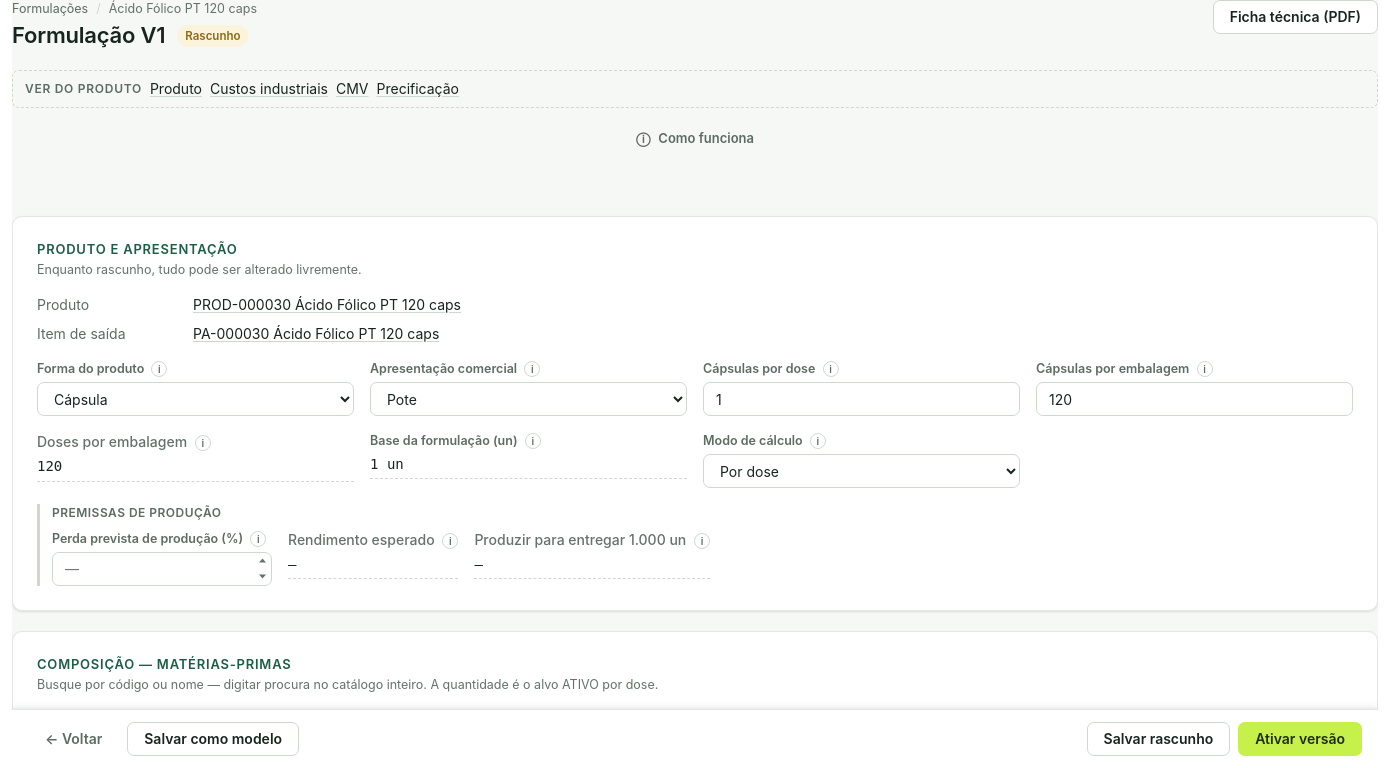
Test case: Bancada — cápsula responde ao vivo › 2 cápsulas por dose refazem doses por embalagem e a massa da cápsula, sem salvar
The image size is (1390, 768).
Expected: the link "PROD-000030 Ácido Fólico PT 120 caps" is shown, [193, 296, 461, 313]
Expected: the text with test id "doses-derivadas" reads "120", [37, 458, 62, 474]
Replace the text in the field labelled "Cápsulas por dose i" with "2". click: (862, 399)
box: [703, 382, 1020, 416]
(page scrolled)
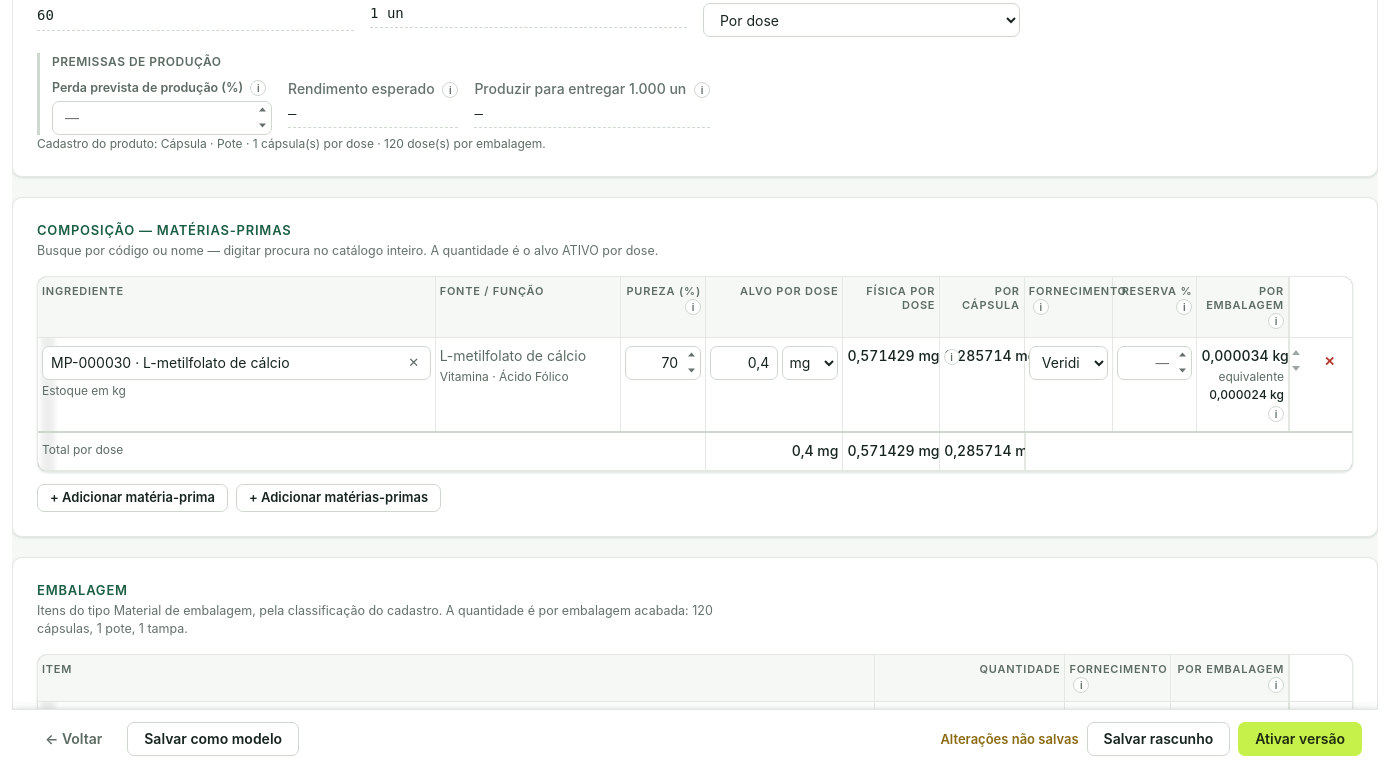
Expected: the row named "Quantidade de MP-000030" is shown, [38, 337, 1352, 432]
Result: the text with test id "doses-derivadas" reads "60" at [37, 7, 54, 23]
Result: the row named "Quantidade de MP-000030" shows "0,285714" at [944, 347, 1036, 364]
